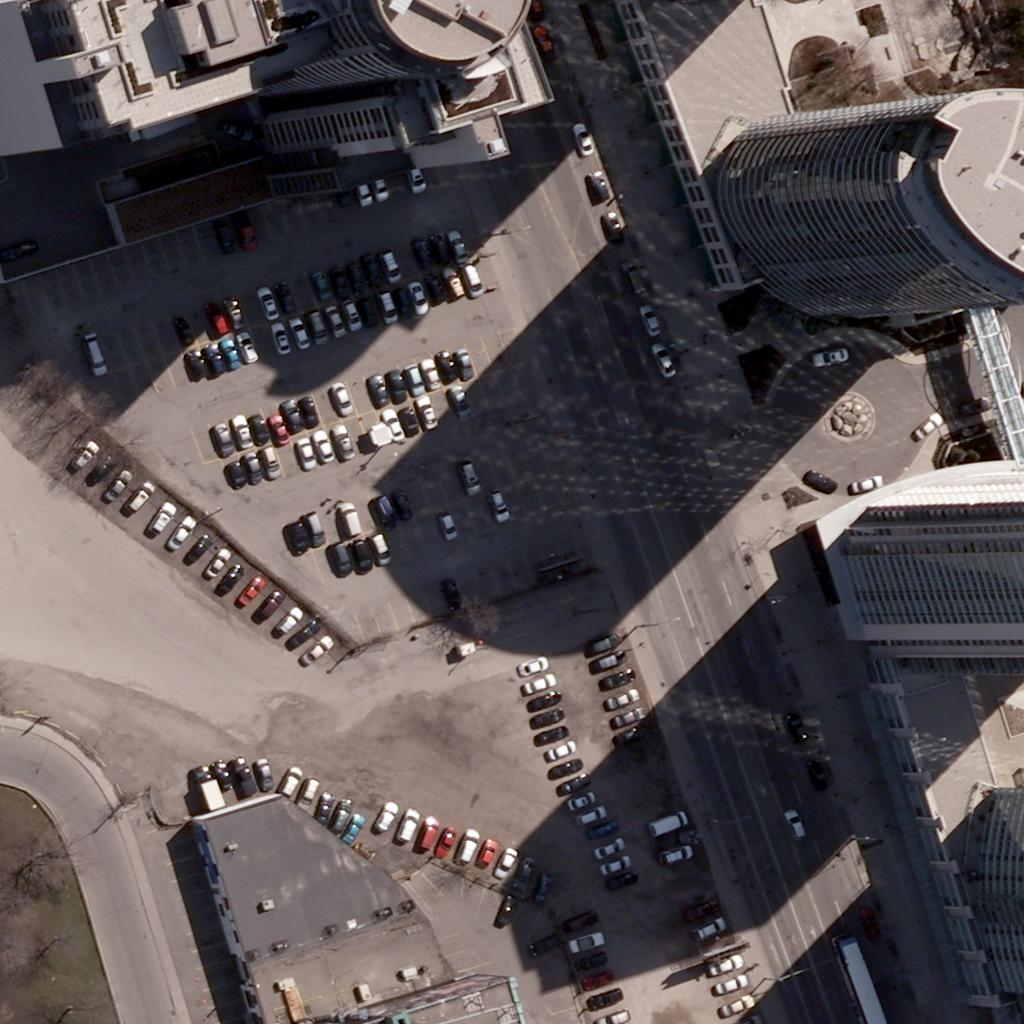car: (527, 24, 561, 58), (567, 121, 601, 155), (400, 159, 434, 193), (583, 167, 617, 201), (361, 170, 395, 204), (345, 174, 379, 208), (597, 207, 631, 241), (209, 221, 243, 255), (232, 222, 266, 256), (422, 231, 456, 265), (403, 233, 437, 267), (376, 246, 410, 280), (356, 251, 390, 285), (356, 252, 390, 286), (338, 258, 372, 292), (617, 261, 651, 295), (438, 263, 472, 297), (322, 265, 356, 299), (306, 269, 340, 303), (420, 269, 454, 303), (401, 278, 435, 312), (269, 281, 303, 315), (387, 283, 421, 317), (252, 286, 286, 320), (371, 289, 405, 323), (351, 292, 385, 326), (334, 295, 368, 329), (217, 296, 251, 330), (319, 301, 353, 335), (636, 303, 670, 337), (300, 306, 334, 340), (203, 308, 237, 342), (167, 310, 201, 344), (284, 317, 318, 351), (263, 319, 297, 353), (233, 332, 267, 366), (78, 338, 112, 372), (214, 338, 248, 372), (815, 338, 849, 372), (198, 343, 232, 377), (447, 343, 481, 377), (647, 343, 681, 377), (429, 345, 463, 379), (179, 347, 213, 381), (415, 358, 449, 392), (397, 360, 431, 394), (379, 364, 413, 398), (362, 372, 396, 406), (323, 377, 357, 411), (443, 381, 477, 415), (960, 386, 994, 420), (291, 392, 325, 426), (410, 396, 444, 430), (276, 399, 310, 433), (392, 401, 426, 435), (378, 408, 412, 442), (240, 410, 274, 444), (909, 410, 943, 444), (262, 412, 296, 446), (226, 415, 260, 449), (205, 420, 239, 454), (327, 423, 361, 457), (307, 430, 341, 464), (288, 435, 322, 469), (68, 438, 102, 472), (252, 440, 286, 474), (235, 448, 269, 482), (87, 451, 121, 485), (219, 456, 253, 490), (453, 459, 487, 493), (804, 464, 838, 498), (851, 466, 885, 500), (103, 467, 137, 501), (125, 479, 159, 513), (482, 483, 516, 517), (385, 487, 419, 521), (369, 492, 403, 526), (146, 499, 180, 533), (427, 503, 461, 537), (334, 505, 368, 539), (298, 509, 332, 543), (163, 514, 197, 548), (282, 522, 316, 556), (363, 529, 397, 563), (181, 530, 215, 564), (343, 537, 377, 571), (325, 540, 359, 574), (201, 547, 235, 581), (213, 562, 247, 596), (232, 574, 266, 608), (434, 575, 468, 609), (252, 585, 286, 619), (273, 603, 307, 637), (289, 613, 323, 647), (589, 624, 623, 658), (300, 632, 334, 666), (595, 643, 629, 677), (519, 649, 553, 683), (603, 660, 637, 694), (523, 664, 557, 698), (530, 679, 564, 713), (606, 681, 640, 715), (531, 699, 565, 733), (613, 699, 647, 733), (779, 709, 813, 743), (537, 716, 571, 750), (613, 717, 647, 751), (545, 731, 579, 765), (550, 750, 584, 784), (248, 754, 282, 788), (225, 756, 259, 790), (801, 757, 835, 791), (208, 759, 242, 793), (273, 762, 307, 796), (561, 764, 595, 798), (192, 770, 226, 804), (291, 775, 325, 809), (565, 781, 599, 815), (307, 787, 341, 821), (325, 797, 359, 831), (369, 798, 403, 832), (573, 798, 607, 832), (574, 798, 608, 832), (655, 804, 689, 838), (392, 807, 426, 841), (589, 809, 623, 843), (778, 809, 812, 843), (336, 810, 370, 844), (414, 810, 448, 844), (430, 822, 464, 856), (453, 824, 487, 858), (592, 830, 626, 864), (470, 834, 504, 868), (471, 834, 505, 868), (661, 835, 695, 869), (489, 843, 523, 877), (597, 847, 631, 881), (508, 852, 542, 886), (610, 861, 644, 895), (528, 869, 562, 903), (492, 891, 526, 925), (687, 891, 721, 925), (562, 906, 596, 940), (692, 912, 726, 946), (568, 927, 602, 961), (531, 929, 565, 963), (573, 944, 607, 978), (706, 944, 740, 978), (579, 962, 613, 996), (712, 968, 746, 1002), (593, 979, 627, 1013), (718, 990, 752, 1024), (597, 1001, 631, 1024)
